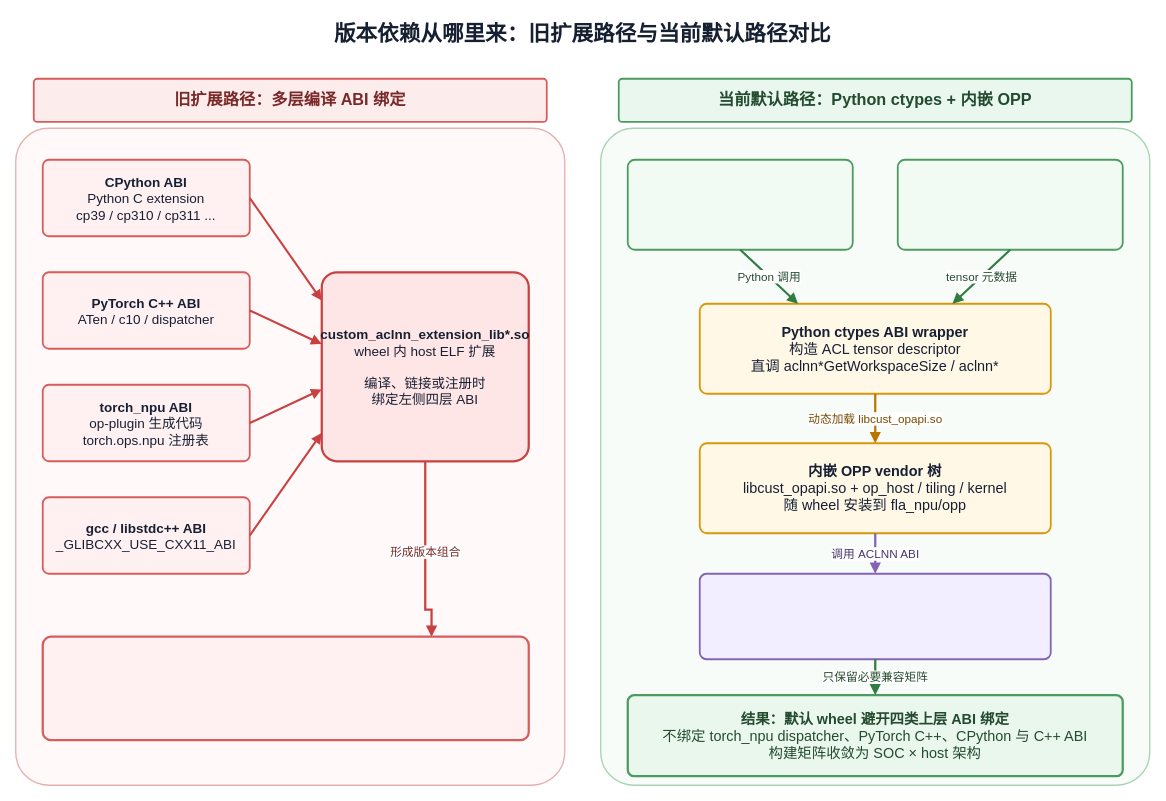
Image size: 1166x801. Some labels were removed from this diagram. The box of each missing label's shape, as (x1, y1, x2, y2) in pixels:
torch Python tensor API data_ptr / shape / stride / dtype current NPU stream: (896, 158, 1123, 250)
保留的真实运行依赖 CANN / ACL runtime ABI SOC 与 host 架构的二进制兼容性: (698, 572, 1051, 660)
纯 Python 包 py3-none-any wheel 无 CPython 扩展 ABI: (626, 158, 853, 250)
结果：包矩阵膨胀 torch × torch_npu × Python × C++ ABI × host 架构 任一 ABI 变化都可能要求重新编译 wheel: (41, 635, 529, 741)
